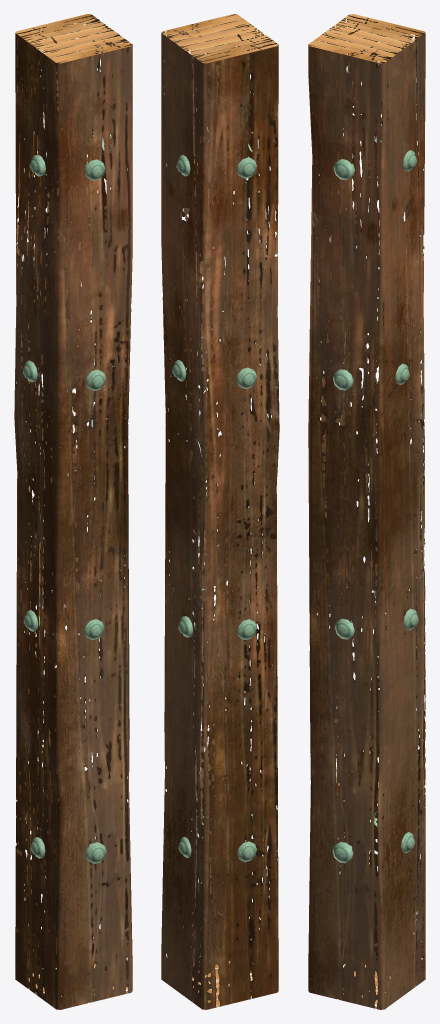
3 renders of one model, left to right at view 1: azimuth 30°, elevation 25°; view 2: azimuth 210°, elevation 25°; view 3: azimuth 330°, elevation 25°, orthographic.
Visible parts, largest first — view 1: SM_BB_T4_Beam_Thin_Large_Vertical_LOD0; view 2: SM_BB_T4_Beam_Thin_Large_Vertical_LOD0; view 3: SM_BB_T4_Beam_Thin_Large_Vertical_LOD0.
Part boxes in pixels (bbox=[...]): SM_BB_T4_Beam_Thin_Large_Vertical_LOD0: bbox=[14, 14, 132, 1009]; SM_BB_T4_Beam_Thin_Large_Vertical_LOD0: bbox=[161, 14, 279, 1009]; SM_BB_T4_Beam_Thin_Large_Vertical_LOD0: bbox=[308, 14, 425, 1009].
Size of the model in its own units: 0.3033 by 3.01 by 0.3031.
2 materials, 2 textured.
